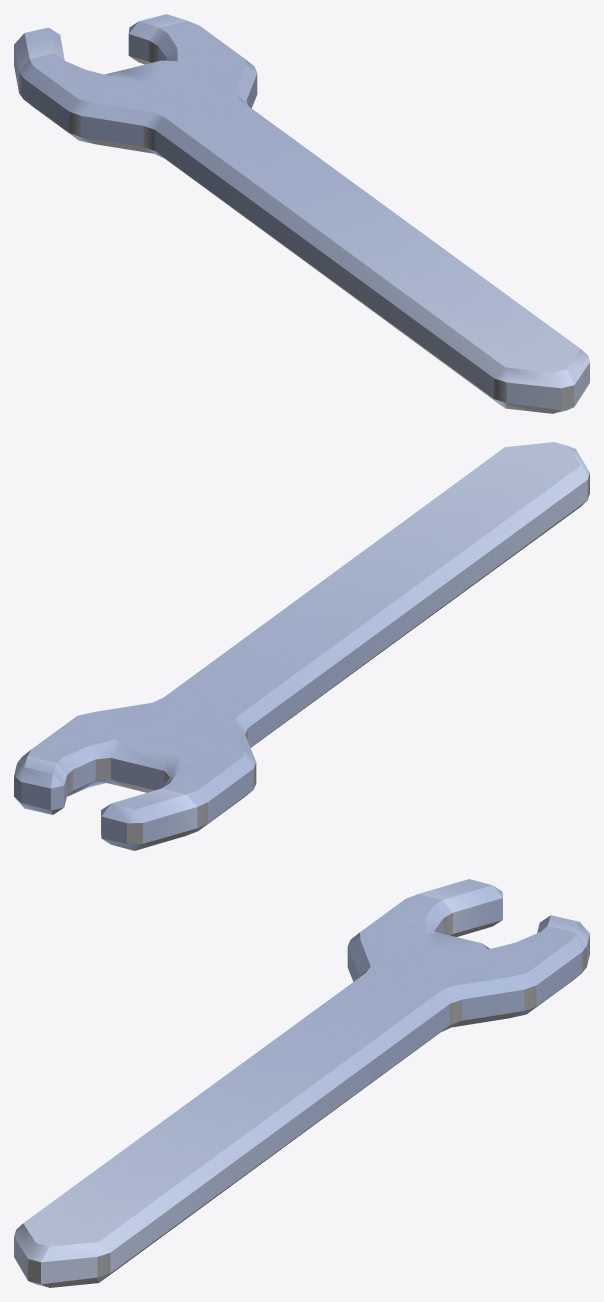
File: Wrench.fbx
3 views of the same model, one above another, from view 1: azimuth 30°, elevation 25°; view 2: azimuth 150°, elevation 25°; view 3: azimuth 330°, elevation 25° (orthographic).
Parts seen in each view (by area): view 1: wrench1; view 2: wrench1; view 3: wrench1.
Part boxes in pixels (x1,y1,x2,y2): wrench1: (14, 14, 589, 413); wrench1: (14, 442, 589, 850); wrench1: (14, 879, 589, 1287).
Size of the model in its own units: 2.6 by 0.5541 by 11.98.
